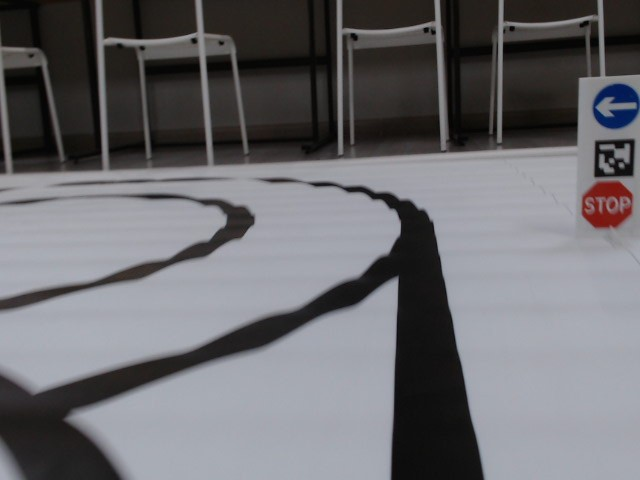Stop: (583, 180, 634, 229)
